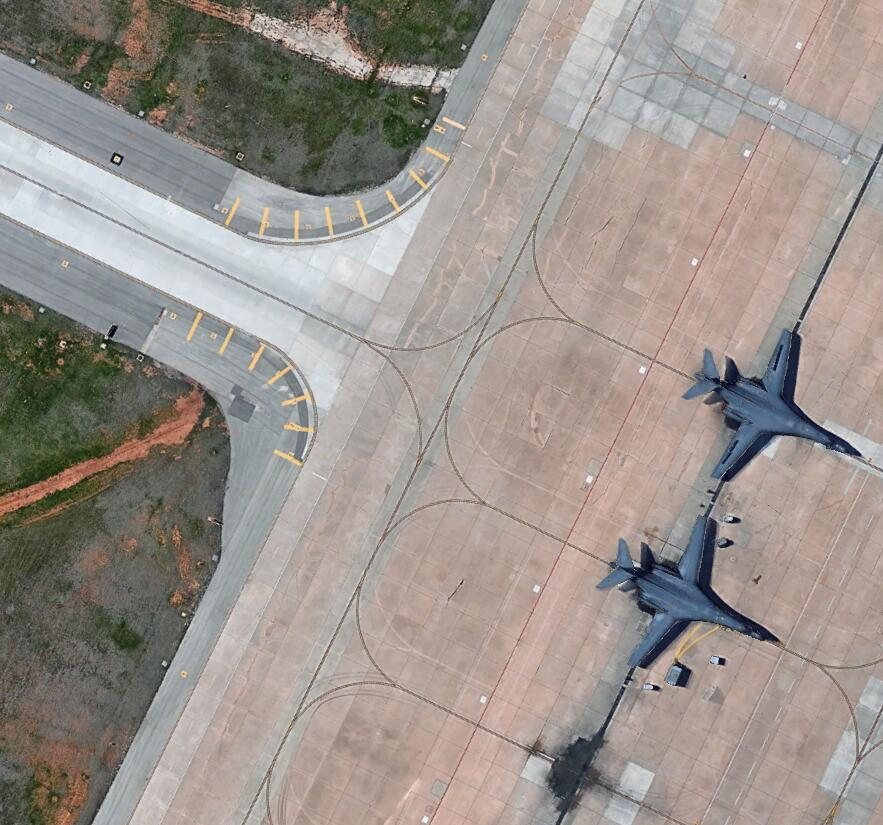A10: (594, 507, 786, 678), (680, 327, 865, 483)
